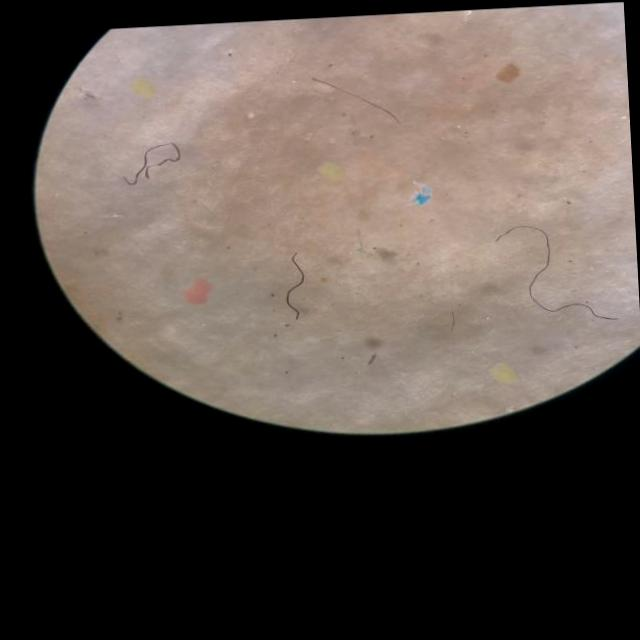fiber: (497, 225, 611, 319), (311, 79, 400, 123), (123, 143, 180, 185), (286, 253, 304, 320)
film: (413, 186, 430, 201)
fragment: (184, 280, 210, 305), (318, 162, 343, 180), (491, 364, 514, 382), (132, 80, 155, 98), (496, 64, 519, 82)
